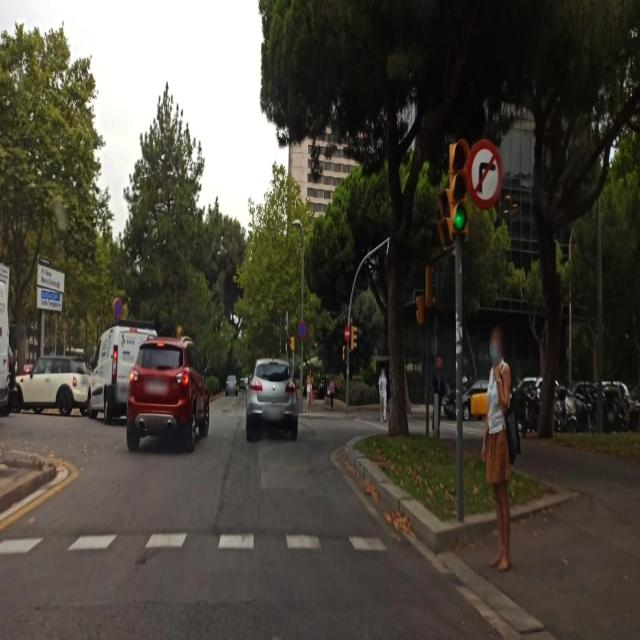car: (126, 334, 210, 452), (87, 318, 158, 424), (13, 355, 91, 415), (246, 358, 298, 440), (512, 376, 572, 434), (571, 380, 627, 432), (600, 380, 640, 430), (444, 379, 490, 421), (225, 374, 239, 396)
